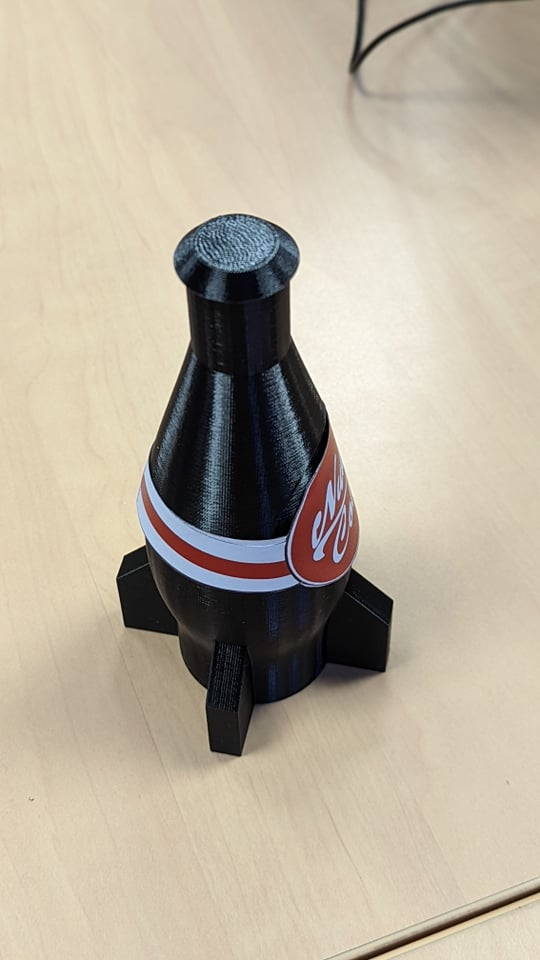bottle: (91, 193, 423, 774)
